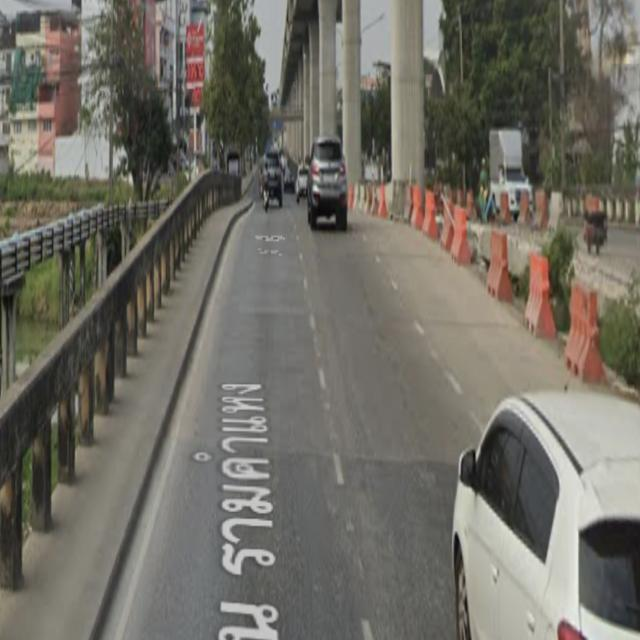fallen_object: (472, 223, 589, 375), (369, 180, 464, 263), (499, 170, 561, 236)
